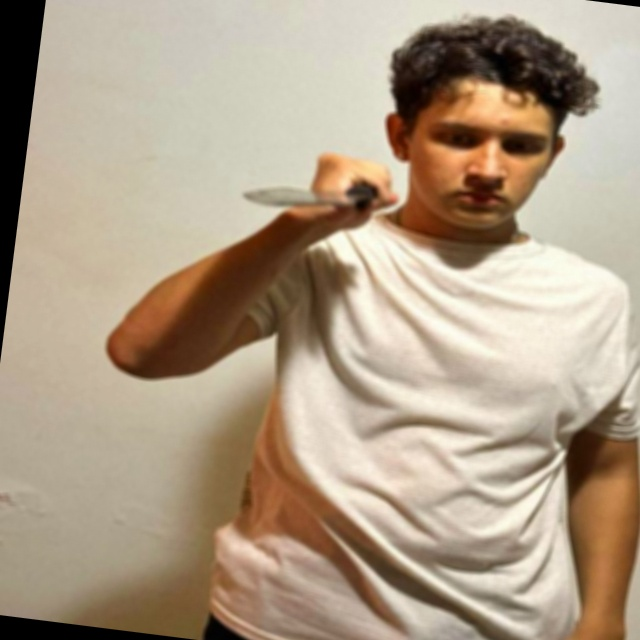Sharp-Object: (244, 180, 361, 217)
